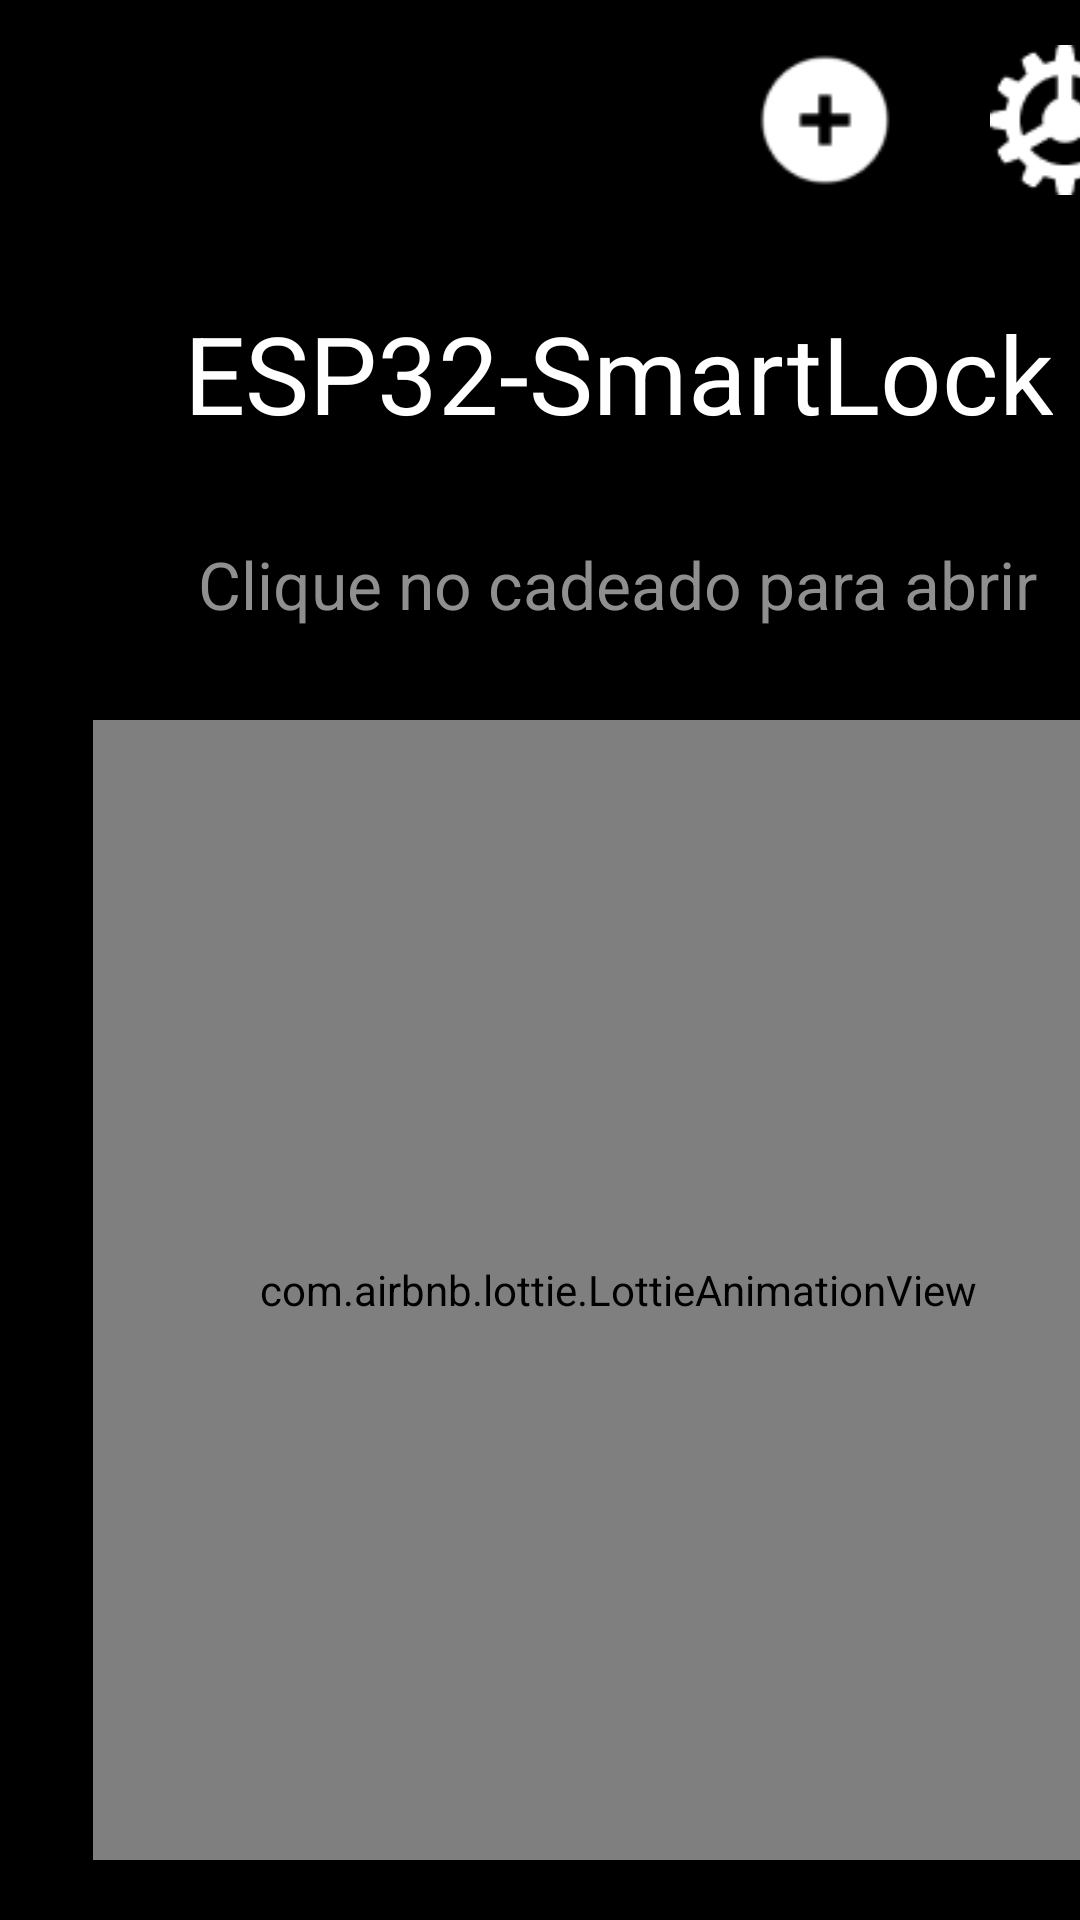

Screen size 1080 x 1920. Icon name, then its center in pixels as [x,y]:
add: [825,120]
